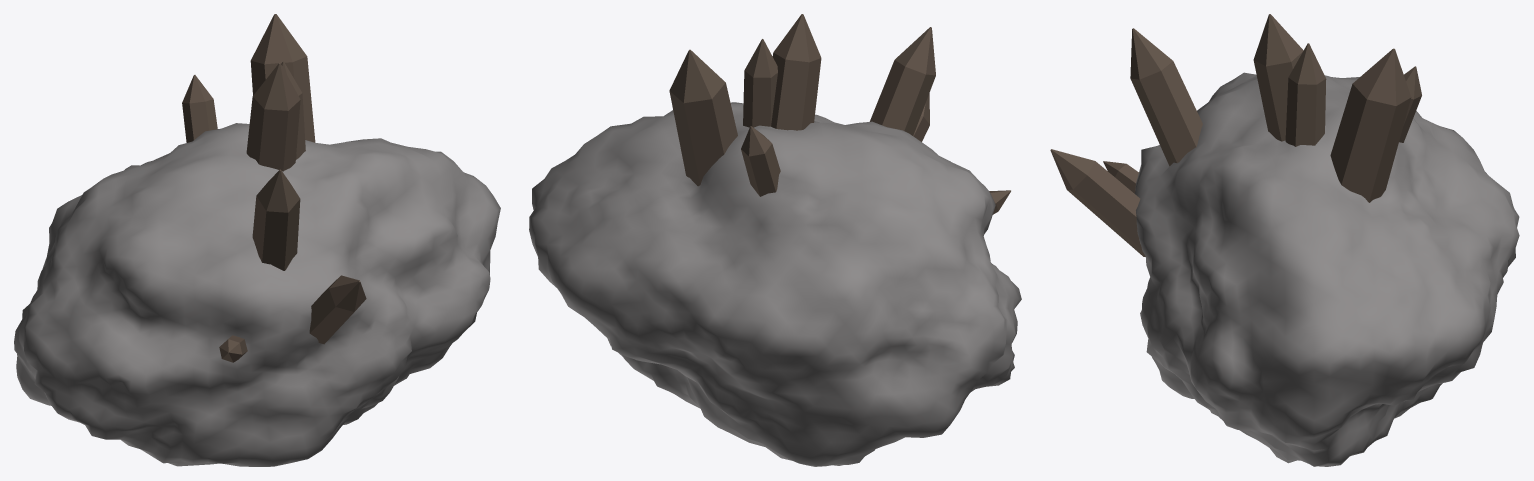
Rendered from cassiterite_surface.glb.
3 renders of one model, left to right at view 1: azimuth 30°, elevation 25°; view 2: azimuth 150°, elevation 25°; view 3: azimuth 270°, elevation 25°, orthographic. The views are drawn at different scales.
Visible parts, largest first — view 1: cassiterite_surface; view 2: cassiterite_surface; view 3: cassiterite_surface.
Boxes of the visible parts, x1,y1,x2,y2 form: cassiterite_surface: (14,14,500,466); cassiterite_surface: (529,14,1021,466); cassiterite_surface: (1050,14,1519,466).
Size of the model in its own units: 1.29 by 1.03 by 1.05.
